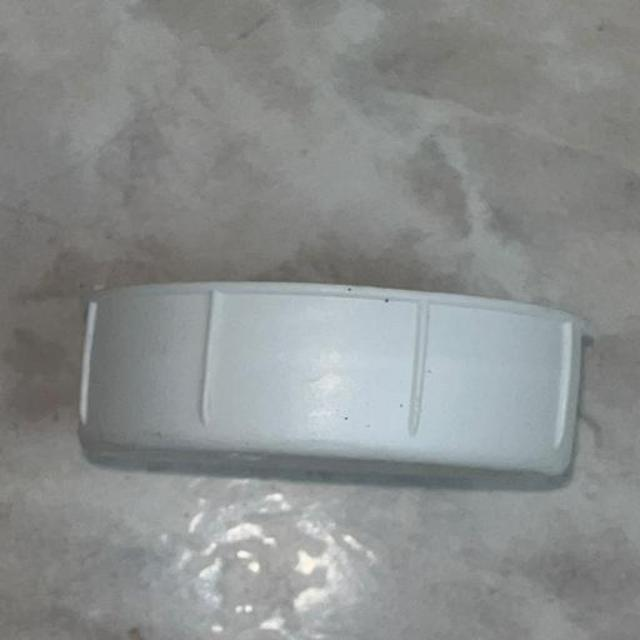HDPE: (38, 240, 640, 640)
